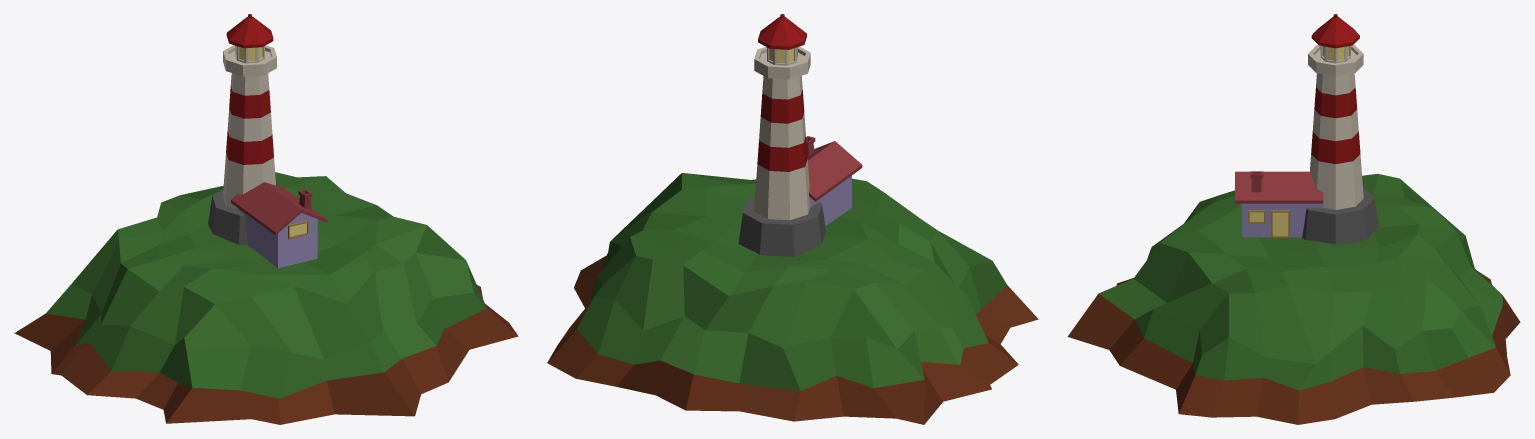
Rendered from Lighthouse.glb.
3 renders of one model, left to right at view 1: azimuth 30°, elevation 25°; view 2: azimuth 150°, elevation 25°; view 3: azimuth 270°, elevation 25°, orthographic. The views are drawn at different scales.
Visible parts, largest first — view 1: isla, faro, casa; view 2: isla, faro, casa; view 3: isla, faro, casa.
Part boxes in pixels (x1,y1,x2,y2): isla: [14, 172, 518, 424]; faro: [208, 14, 276, 245]; casa: [231, 182, 327, 268]; isla: [547, 173, 1038, 424]; faro: [738, 14, 826, 256]; casa: [806, 136, 862, 225]; isla: [1067, 174, 1520, 424]; faro: [1302, 14, 1378, 244]; casa: [1235, 171, 1323, 237].
Bounding box in the file's own units: 10.89 × 7.84 × 10.47.
